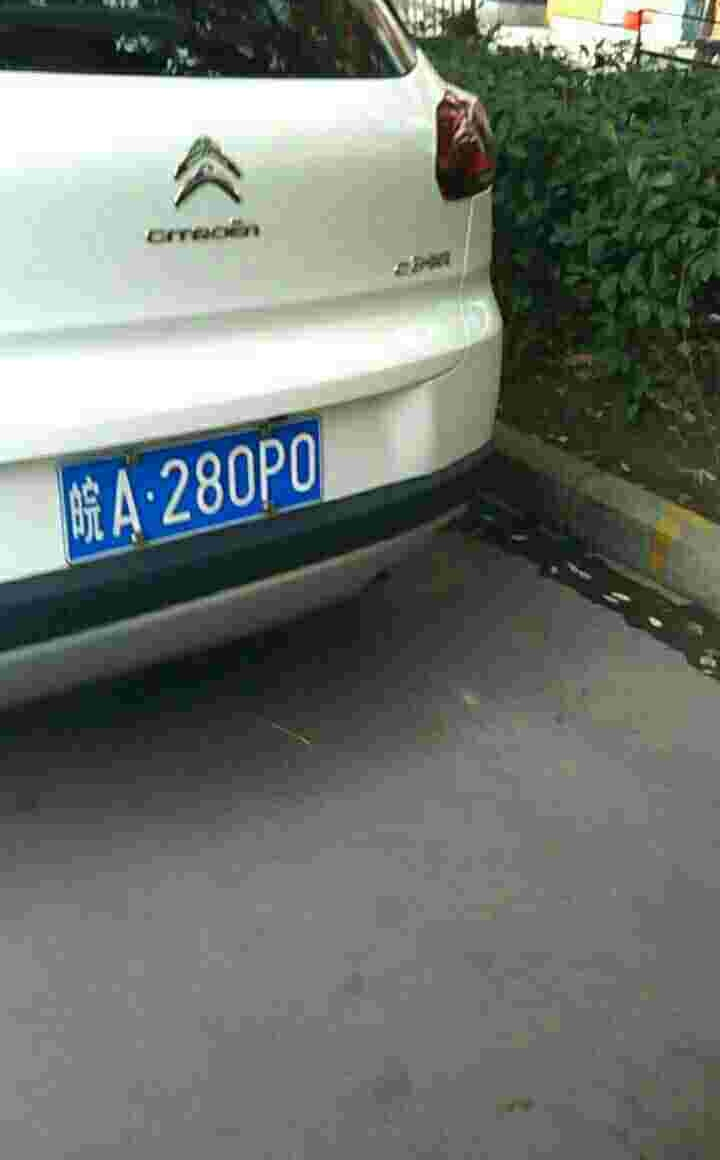car: (63, 434, 329, 513)
